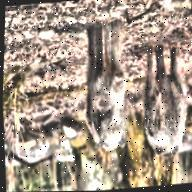boar: (66, 14, 153, 156)
